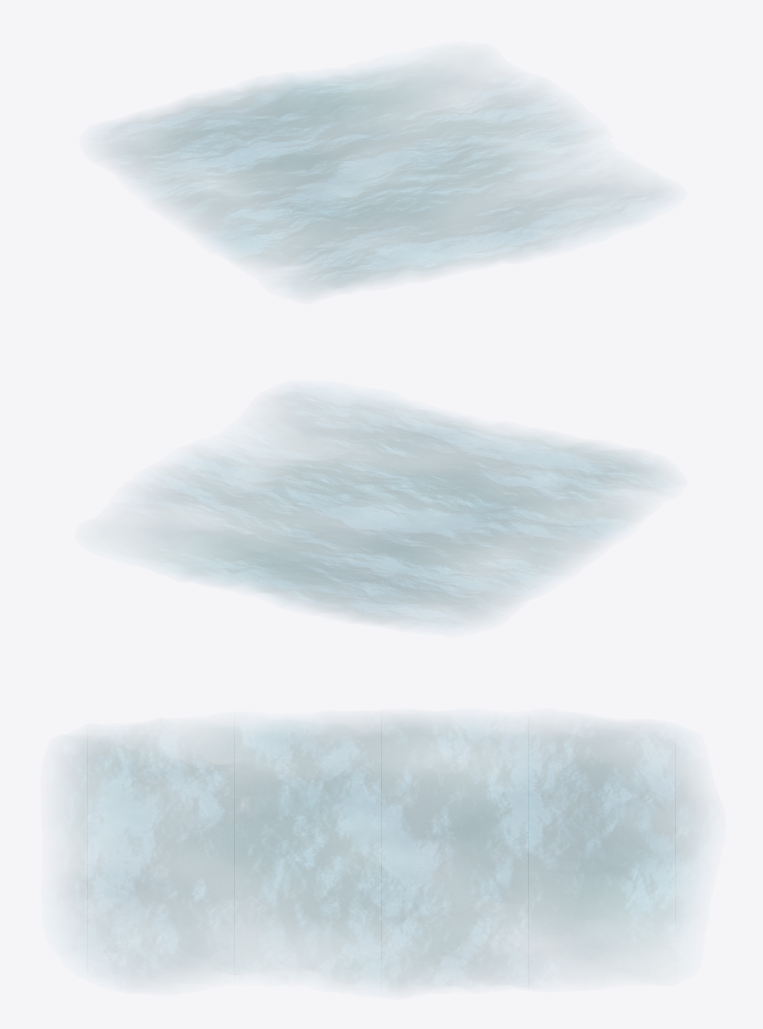
File: water2.glb
3 views of the same model, one above another, from view 1: azimuth 30°, elevation 25°; view 2: azimuth 150°, elevation 25°; view 3: azimuth 270°, elevation 25° (orthographic). The views are drawn at different scales.
Parts seen in each view (by area): view 1: Water Export; view 2: Water Export; view 3: Water Export.
Boxes of the visible parts, x1,y1,x2,y2 form: Water Export: (108,67,657,289); Water Export: (137,394,659,623); Water Export: (69,719,698,986).
Size of the model in its own units: 100 by 3.16 by 100.
Materials: 1 (1 with a texture image).
